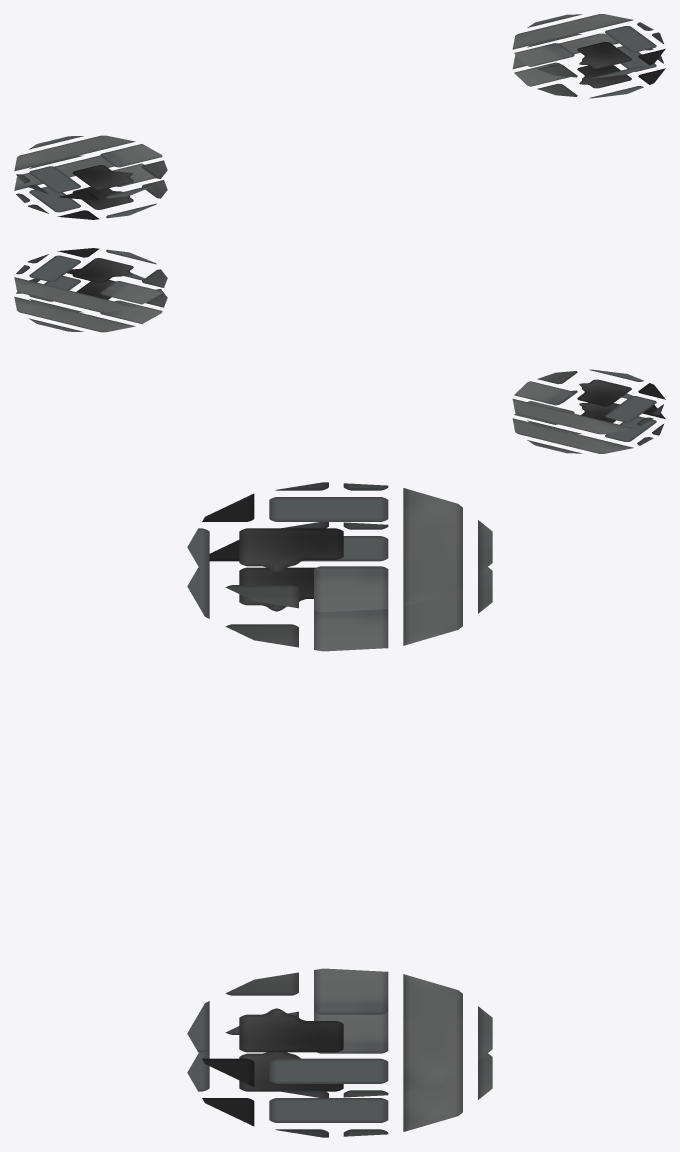
Rendered from air_spring_upper.obj.
The picture shows the model from 3 angles, top to bottom: view 1: azimuth 30°, elevation 25°; view 2: azimuth 150°, elevation 25°; view 3: azimuth 270°, elevation 25°; orthographic projection. The views are drawn at different scales.
Parts seen in each view (by area): view 1: 空气弹簧囊, air_spring_left_cap, air_spring_right_cap; view 2: 空气弹簧囊, air_spring_right_cap, air_spring_left_cap; view 3: 空气弹簧囊, air_spring_left_cap, air_spring_right_cap.
Part boxes in pixels (x1,y1,x2,y2): 空气弹簧囊: [14, 14, 665, 200]; air_spring_left_cap: [14, 155, 167, 219]; air_spring_right_cap: [512, 33, 665, 98]; 空气弹簧囊: [14, 248, 665, 434]; air_spring_right_cap: [14, 268, 167, 332]; air_spring_left_cap: [512, 390, 665, 453]; 空气弹簧囊: [187, 482, 492, 1098]; air_spring_left_cap: [187, 522, 492, 651]; air_spring_right_cap: [187, 1011, 492, 1137].
Size of the model in its own units: 3.06 by 0.0906 by 0.6407.
